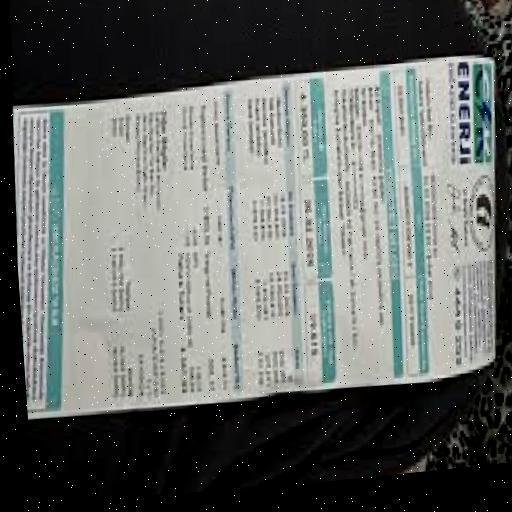electricity-bill: (12, 56, 501, 418)
